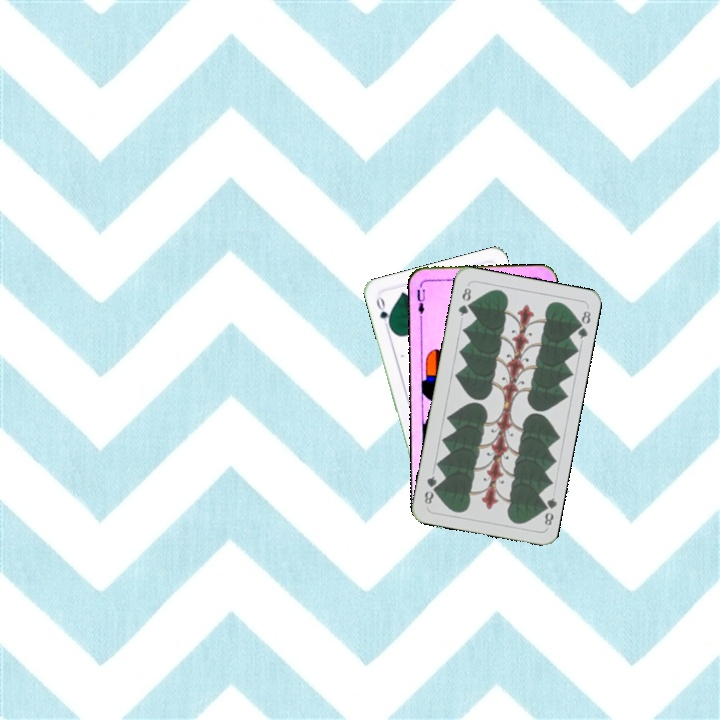EU: (413, 281, 428, 322)
G8: (537, 493, 559, 528), (454, 284, 474, 319)
GO: (372, 293, 394, 332)
